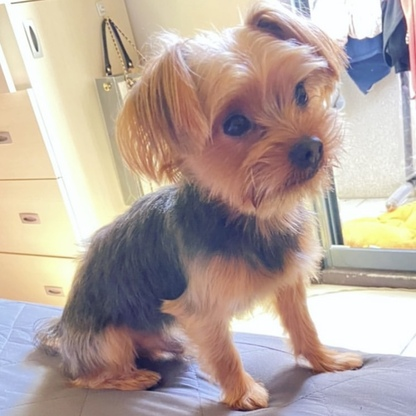yorkshire: (38, 3, 366, 413)
